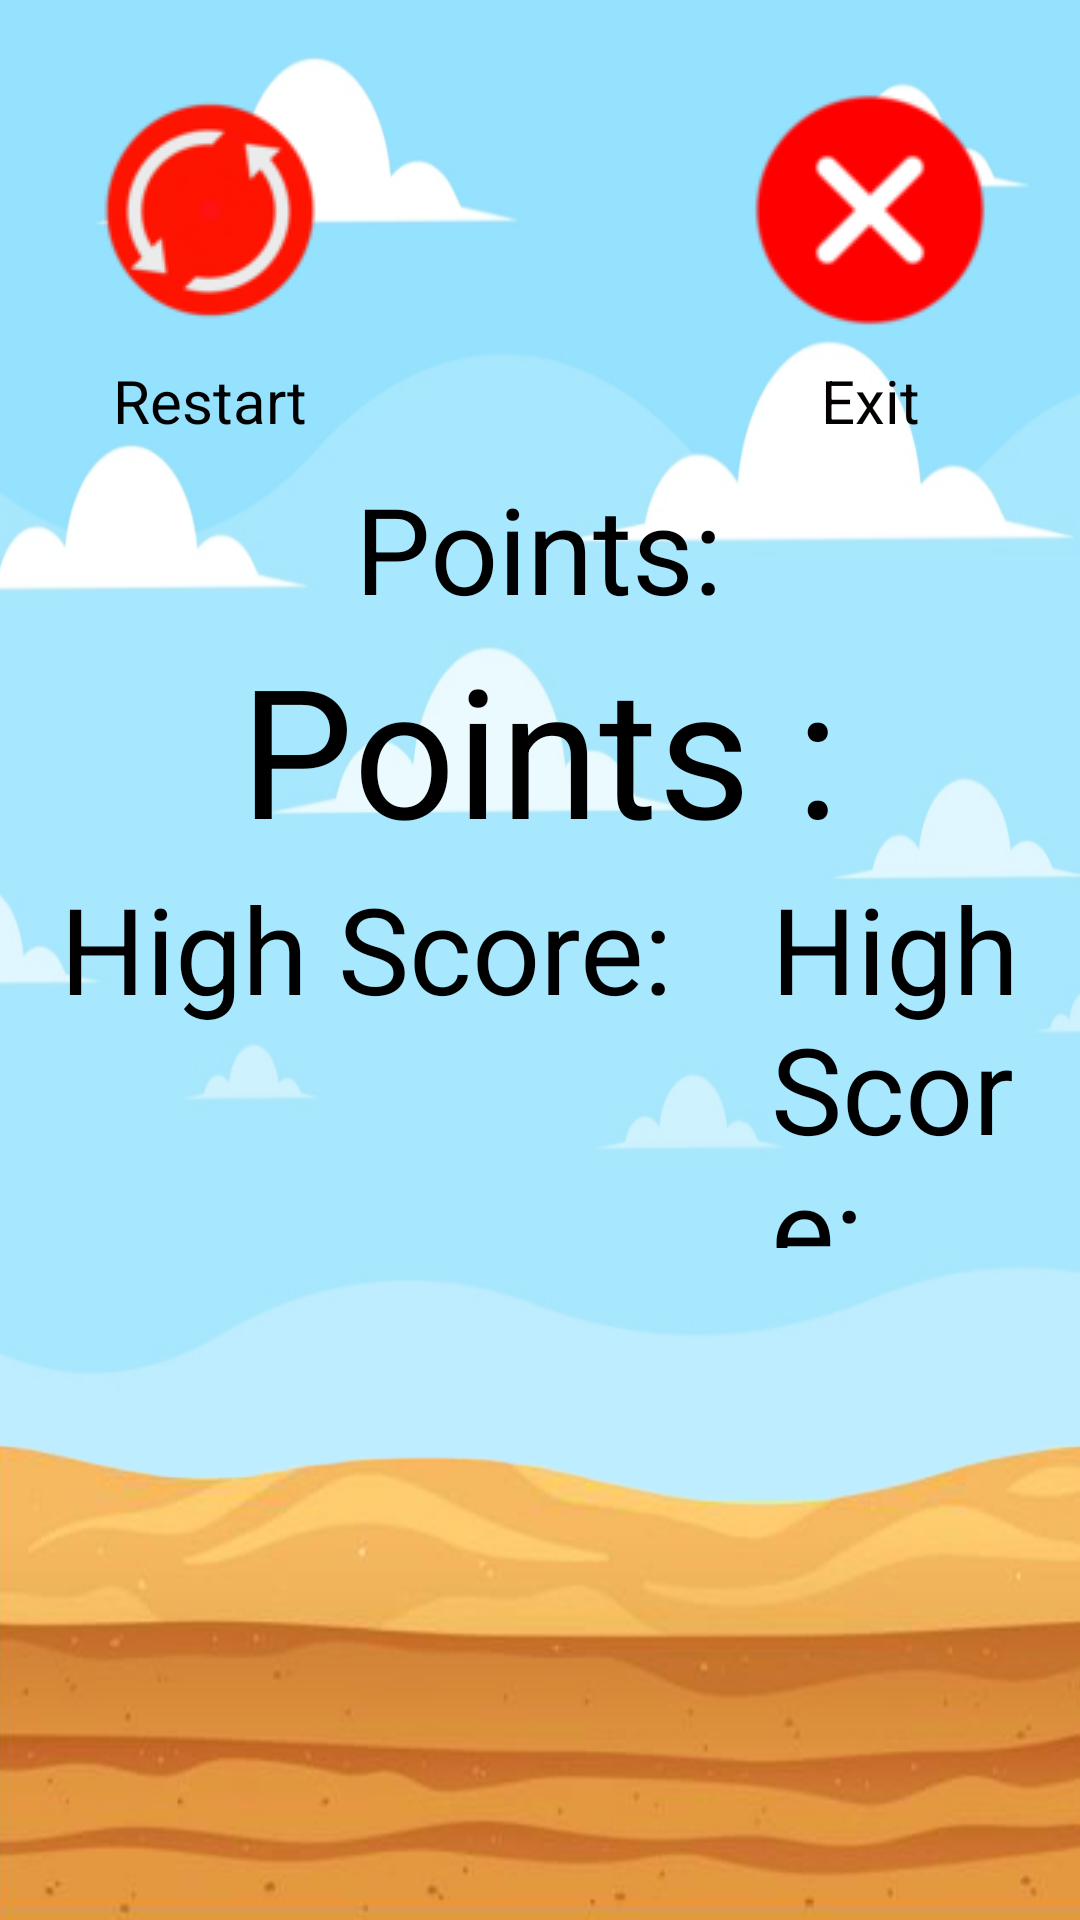

Icons on this 1080w x 1920h Android screen, each with its box as (x1=x1, y1=y1, x2=x2, y2=y2):
cancel: (x1=755, y1=83, x2=1020, y2=360)
